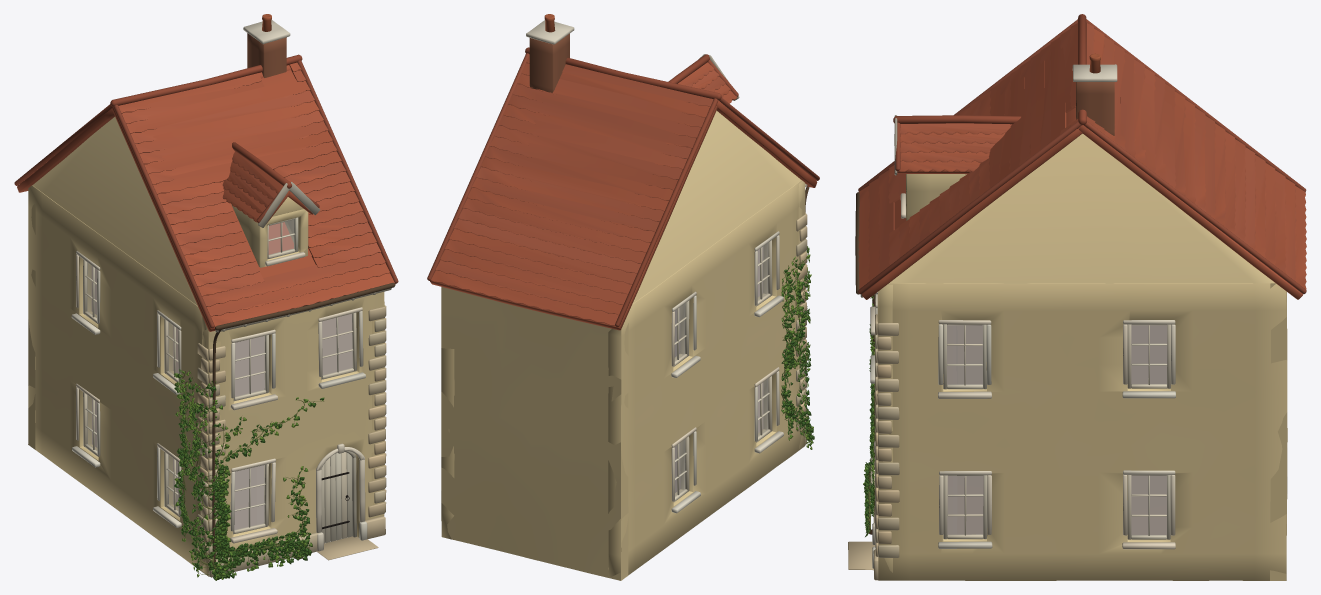
File: GateStreet_BehindInner1.glb
3 views of the same model, side by side, from view 1: azimuth 30°, elevation 25°; view 2: azimuth 150°, elevation 25°; view 3: azimuth 270°, elevation 25° (orthographic). The views are drawn at different scales.
Parts seen in each view (by area): view 1: Sammel Putz, Sammel Stein, Sammel Pflanze, Sammel Lack, Glas, Sammel Putz innen, Sammel Metall, Sammel Ziegel; view 2: Sammel Putz, Sammel Stein, Sammel Pflanze, Sammel Lack, Sammel Ziegel, Glas, Sammel Putz innen; view 3: Sammel Putz, Sammel Stein, Sammel Putz innen, Glas, Sammel Lack, Sammel Ziegel, Sammel Pflanze.
Boxes of the visible parts, x1,y1,x2,y2 form: Sammel Putz: [28, 14, 384, 576]; Sammel Stein: [14, 54, 398, 577]; Sammel Pflanze: [174, 369, 324, 580]; Sammel Lack: [83, 181, 391, 543]; Glas: [87, 220, 352, 529]; Sammel Putz innen: [91, 266, 352, 529]; Sammel Metall: [212, 282, 395, 570]; Sammel Ziegel: [247, 33, 286, 77]; Sammel Putz: [441, 14, 811, 580]; Sammel Stein: [427, 47, 819, 444]; Sammel Pflanze: [781, 246, 814, 449]; Sammel Lack: [673, 54, 807, 501]; Sammel Ziegel: [529, 33, 569, 92]; Glas: [674, 243, 767, 495]; Sammel Putz innen: [674, 247, 763, 492]; Sammel Putz: [867, 53, 1287, 580]; Sammel Stein: [848, 14, 1306, 580]; Sammel Putz innen: [947, 325, 1167, 534]; Glas: [947, 325, 1166, 535]; Sammel Lack: [860, 115, 1170, 539]; Sammel Ziegel: [1076, 82, 1114, 135]; Sammel Pflanze: [863, 296, 875, 536].
Bounding box in the file's own units: 4.96 × 11.15 × 8.98.
